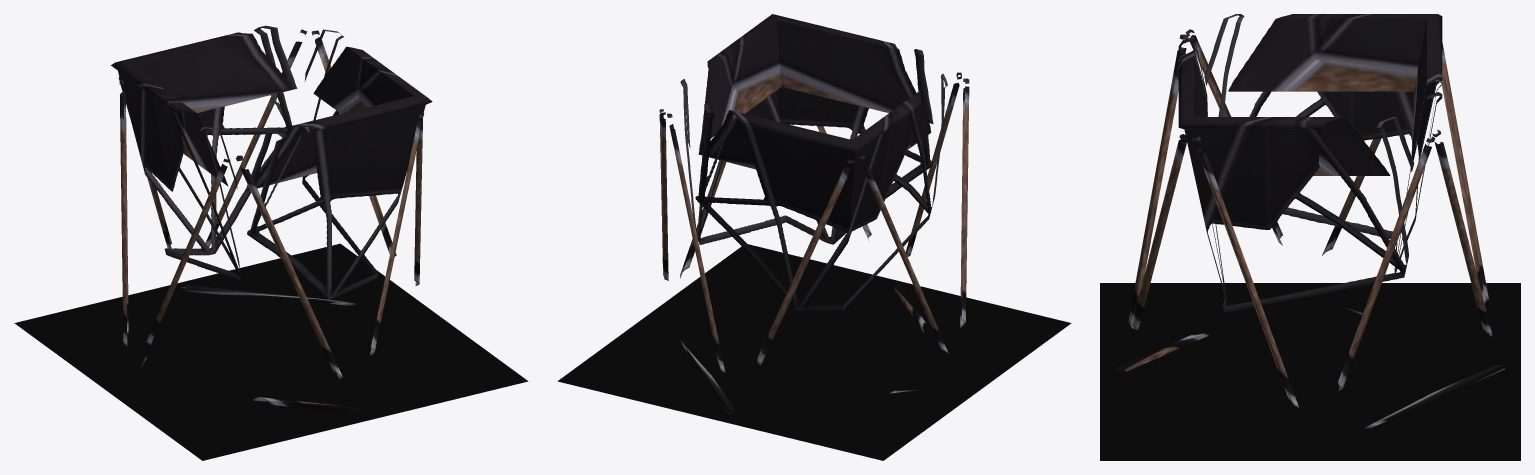
File: huapen_002.FBX
3 views of the same model, side by side, from view 1: azimuth 30°, elevation 25°; view 2: azimuth 150°, elevation 25°; view 3: azimuth 270°, elevation 25° (orthographic). The views are drawn at different scales.
Parts seen in each view (by area): view 1: huapen_002_004, huapen_002_005; view 2: huapen_002_004, huapen_002_005; view 3: huapen_002_004, huapen_002_005.
Part boxes in pixels (x1=…): huapen_002_004: x1=14, y1=243, x2=528, y2=460; huapen_002_005: x1=111, y1=25, x2=432, y2=414; huapen_002_004: x1=557, y1=244, x2=1071, y2=460; huapen_002_005: x1=659, y1=14, x2=969, y2=414; huapen_002_004: x1=1100, y1=283, x2=1520, y2=460; huapen_002_005: x1=1116, y1=14, x2=1504, y2=428.
Bounding box in the file's own units: 509 × 406 × 509.
